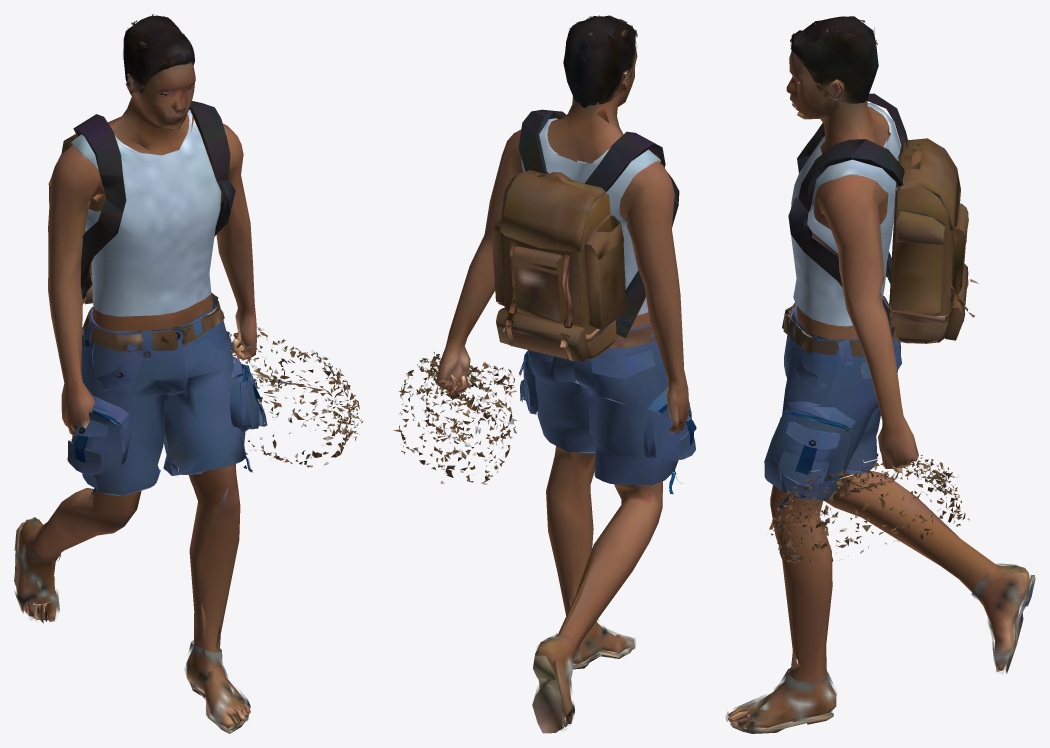
The picture shows the model from 3 angles, left to right: view 1: azimuth 30°, elevation 25°; view 2: azimuth 150°, elevation 25°; view 3: azimuth 270°, elevation 25°; orthographic projection. The views are drawn at different scales.
Visible parts, largest first — view 1: p03143; view 2: p03143; view 3: p03143.
Boxes of the visible parts, x1,y1,x2,y2 form: p03143: (14,14,362,733); p03143: (393,15,696,733); p03143: (726,16,1035,733).
Size of the model in its own units: 0.7668 by 1.71 by 0.6923.
1 material, 1 textured.
